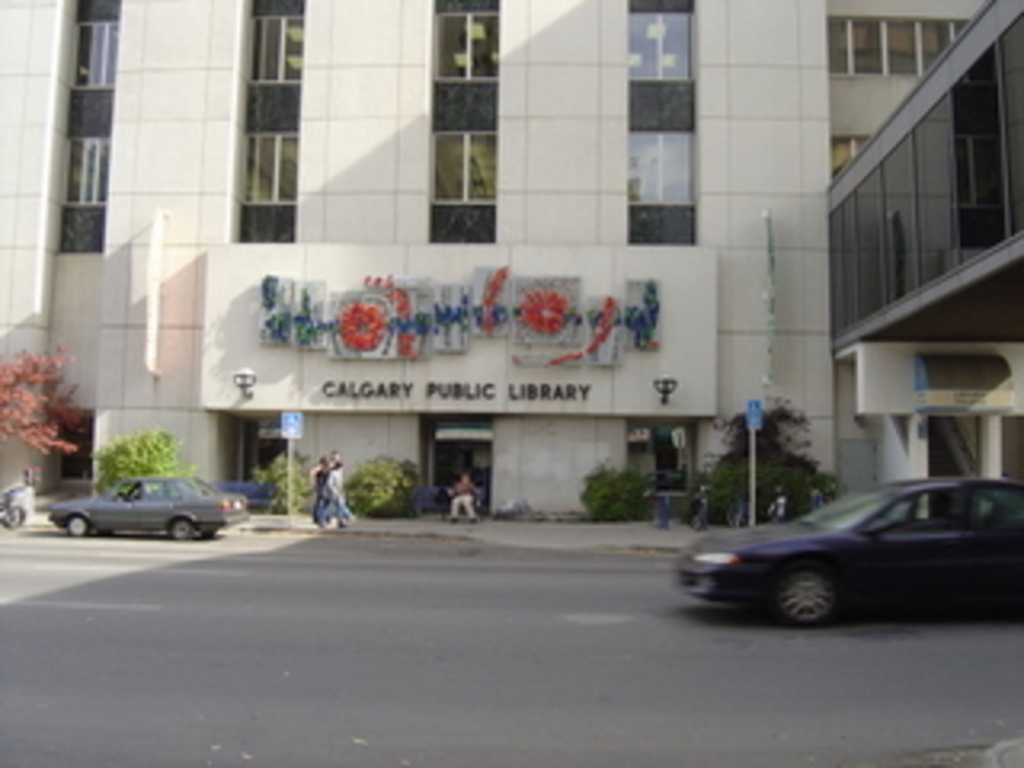Car: (662, 460, 1017, 627), (48, 467, 256, 537)
